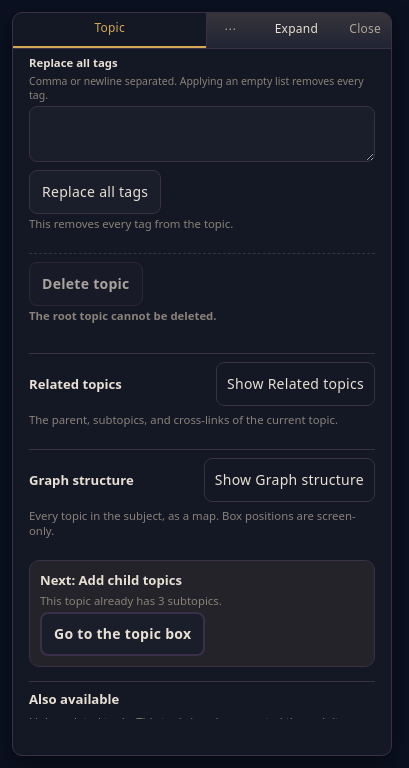
it: graph/cross-link-add fires exactly once › offers no cross-link row for an already-connected topic, and says why
(page scrolled)
Click the button with class "study-region__toggle" showing "Show Related topics".
click(296, 384)  # box [216,362,375,406]
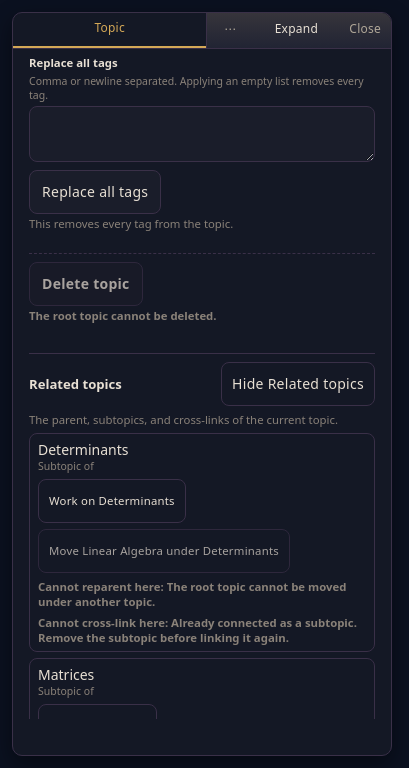
Result: the text "Cannot cross-link here: Already connected as a subtopic" is shown at [38,615,357,645]
